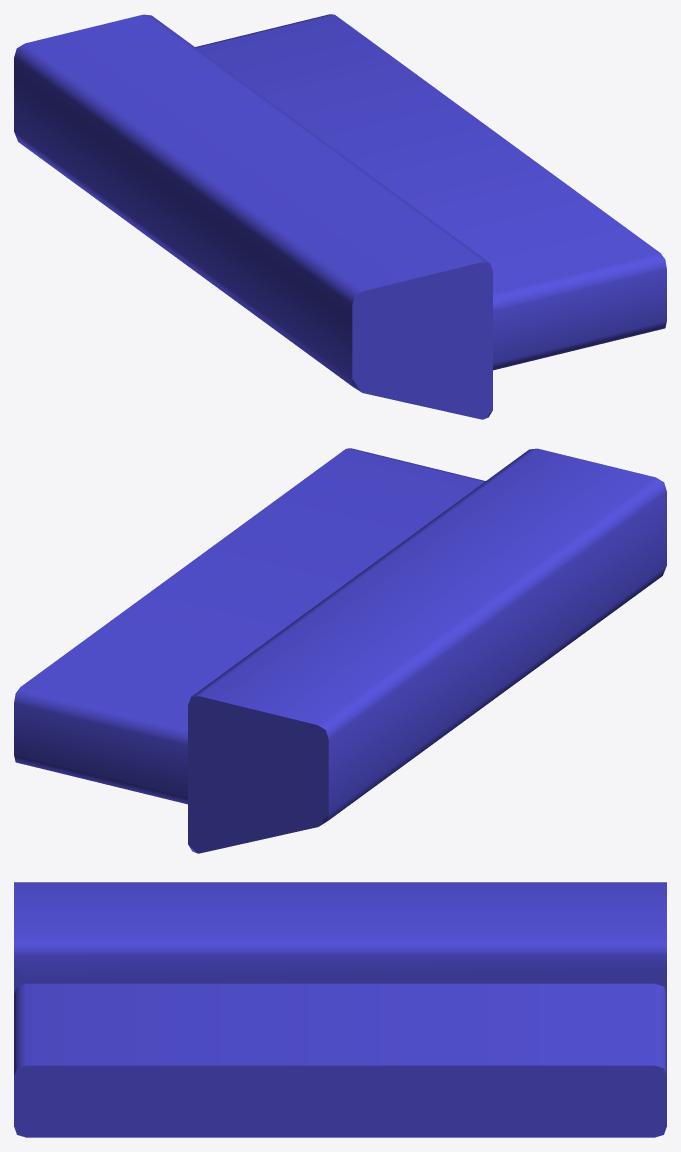
File: SM_LampeNeon.fbx
3 renders of one model, top to bottom at view 1: azimuth 30°, elevation 25°; view 2: azimuth 150°, elevation 25°; view 3: azimuth 270°, elevation 25°, orthographic. The views are drawn at different scales.
Visible parts, largest first — view 1: SM_LampeNeon; view 2: SM_LampeNeon; view 3: SM_LampeNeon.
Boxes of the visible parts, x1,y1,x2,y2 form: SM_LampeNeon: [14, 14, 666, 419]; SM_LampeNeon: [14, 448, 666, 853]; SM_LampeNeon: [14, 882, 666, 1137].
Bounding box in the file's own units: 73.89 × 35.57 × 138.
